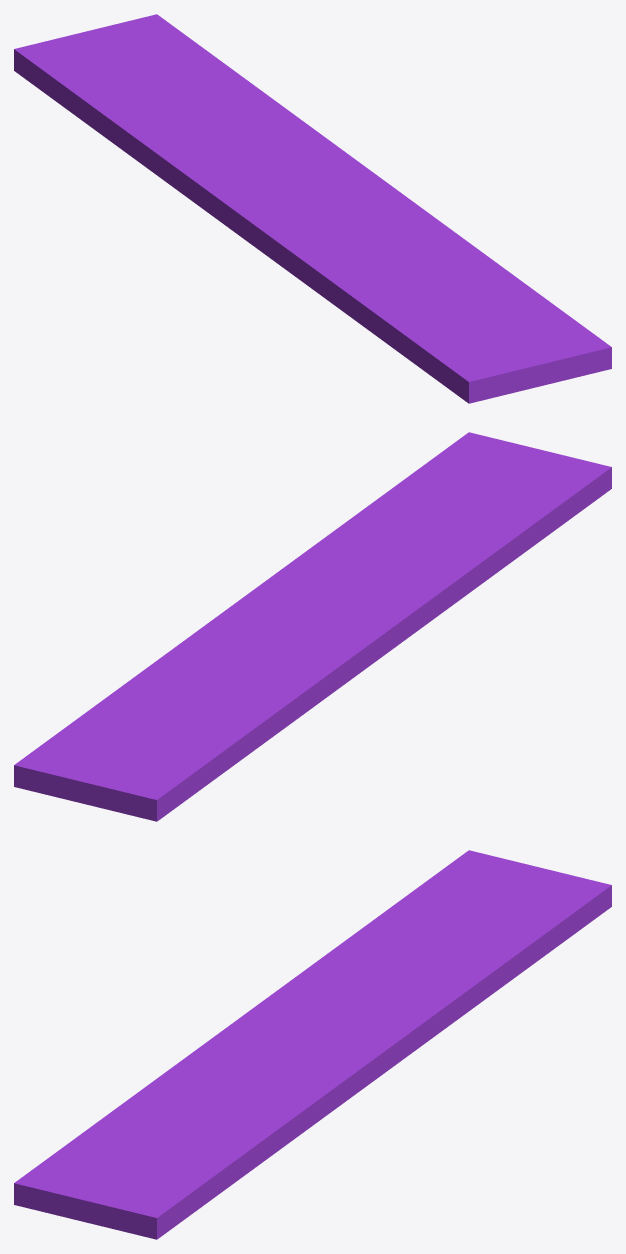
Rendered from StairsStep_59_chunks.fbx.
3 renders of one model, top to bottom at view 1: azimuth 30°, elevation 25°; view 2: azimuth 150°, elevation 25°; view 3: azimuth 330°, elevation 25°, orthographic.
Visible parts, largest first — view 1: StairsStep_59_7, StairsStep_59_9, StairsStep_59_12, StairsStep_59_11, StairsStep_59_0, StairsStep_59_8, StairsStep_59_6, StairsStep_59_2, StairsStep_59_5, StairsStep_59_1, StairsStep_59_4; view 2: StairsStep_59_9, StairsStep_59_7, StairsStep_59_12, StairsStep_59_11, StairsStep_59_0, StairsStep_59_8, StairsStep_59_6, StairsStep_59_2, StairsStep_59_5, StairsStep_59_10, StairsStep_59_1, StairsStep_59_4; view 3: StairsStep_59_7, StairsStep_59_12, StairsStep_59_9, StairsStep_59_8, StairsStep_59_11, StairsStep_59_0, StairsStep_59_6, StairsStep_59_5, StairsStep_59_10, StairsStep_59_2, StairsStep_59_1.
Part boxes in pixels (x1,y1,x2,y2): StairsStep_59_7: (383, 279, 611, 403); StairsStep_59_9: (14, 29, 221, 191); StairsStep_59_12: (94, 14, 321, 138); StairsStep_59_11: (180, 135, 370, 209); StairsStep_59_0: (194, 181, 332, 267); StairsStep_59_8: (373, 173, 525, 284); StairsStep_59_6: (316, 171, 396, 258); StairsStep_59_2: (308, 270, 442, 384); StairsStep_59_5: (330, 234, 421, 310); StairsStep_59_1: (307, 246, 353, 278); StairsStep_59_4: (247, 241, 310, 285); StairsStep_59_9: (76, 677, 324, 821); StairsStep_59_7: (383, 432, 611, 535); StairsStep_59_12: (14, 644, 235, 782); StairsStep_59_11: (179, 608, 347, 699); StairsStep_59_0: (306, 581, 455, 681); StairsStep_59_8: (231, 495, 425, 606); StairsStep_59_6: (228, 555, 395, 616); StairsStep_59_2: (441, 507, 585, 606); StairsStep_59_5: (378, 533, 508, 591); StairsStep_59_10: (14, 773, 89, 805); StairsStep_59_1: (401, 565, 469, 590); StairsStep_59_4: (389, 588, 453, 651); StairsStep_59_7: (14, 1115, 250, 1239); StairsStep_59_12: (390, 870, 611, 1020); StairsStep_59_9: (301, 850, 548, 972); StairsStep_59_8: (201, 1044, 394, 1170); StairsStep_59_11: (289, 971, 453, 1064); StairsStep_59_0: (170, 982, 319, 1069); StairsStep_59_6: (230, 1033, 397, 1100); StairsStep_59_5: (117, 1058, 247, 1116); StairsStep_59_10: (453, 893, 611, 1022); StairsStep_59_2: (87, 1079, 184, 1129); StairsStep_59_1: (156, 1064, 224, 1085).
Bounding box in the file's own units: 200 × 28.98 × 1102.
